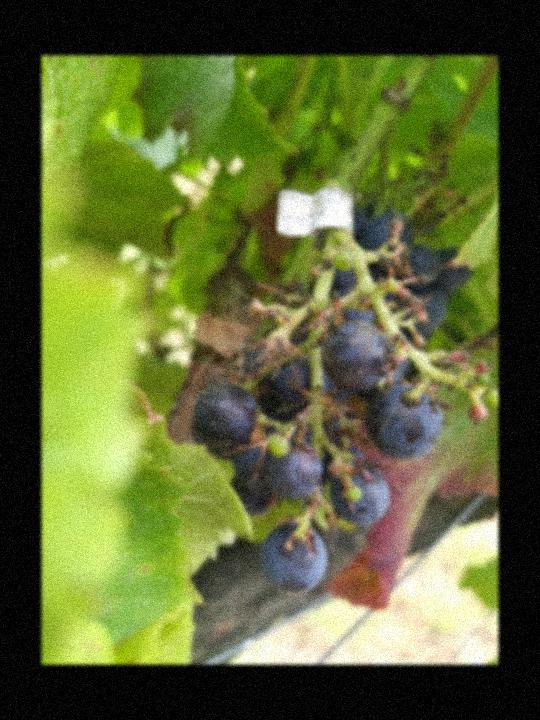grape: (188, 214, 496, 598)
